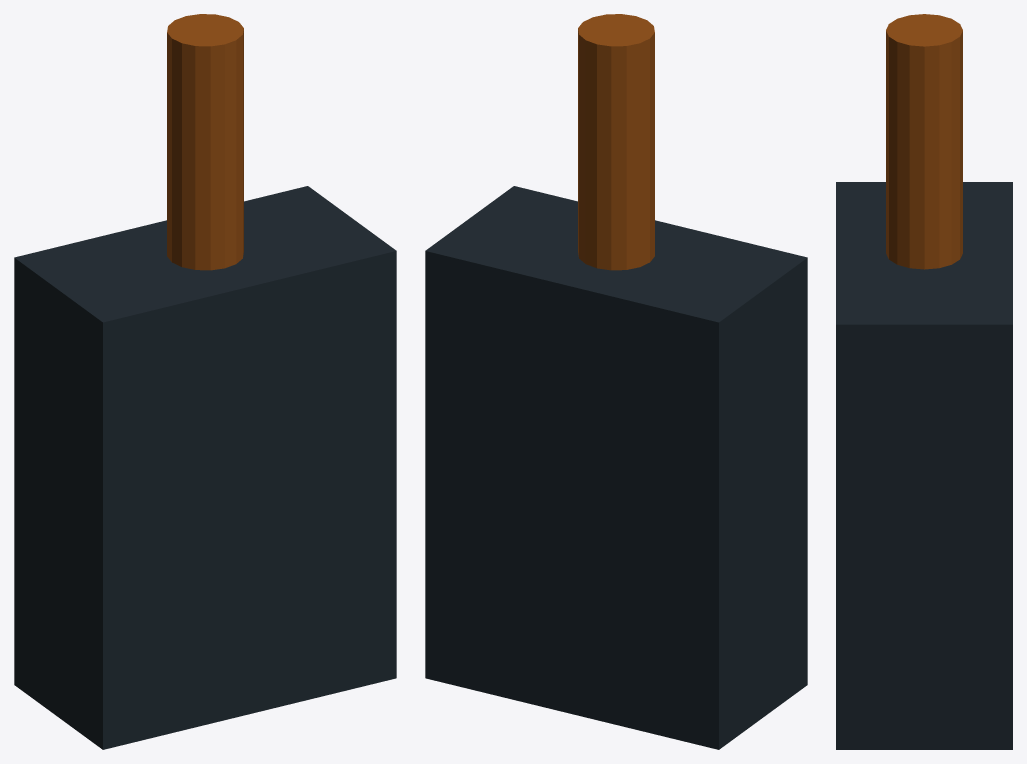
File: photo_backdrop.obj
3 renders of one model, left to right at view 1: azimuth 30°, elevation 25°; view 2: azimuth 150°, elevation 25°; view 3: azimuth 270°, elevation 25°, orthographic.
Parts seen in each view (by area): view 1: painted_metal, brass; view 2: painted_metal, brass; view 3: painted_metal, brass.
Part boxes in pixels (box(x1,y1,x2,y2)): painted_metal: box(14, 186, 396, 749); brass: box(167, 14, 243, 270); painted_metal: box(425, 186, 807, 749); brass: box(578, 14, 654, 270); painted_metal: box(836, 182, 1012, 749); brass: box(886, 14, 962, 269).
Bounding box in the file's own units: 1.05 × 2.22 × 0.55.
